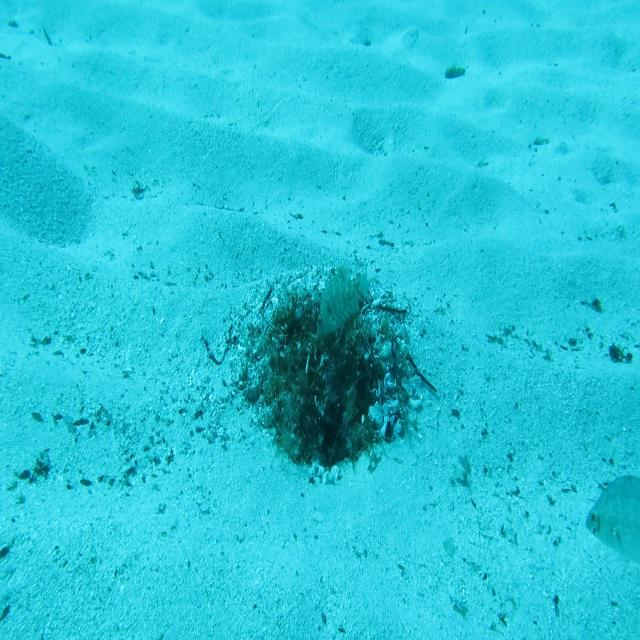INSF: (315, 258, 372, 342)
core_nest: (299, 315, 351, 359)
female: (583, 471, 640, 569)
nest: (221, 260, 431, 490)
vegetation: (444, 60, 467, 81)
